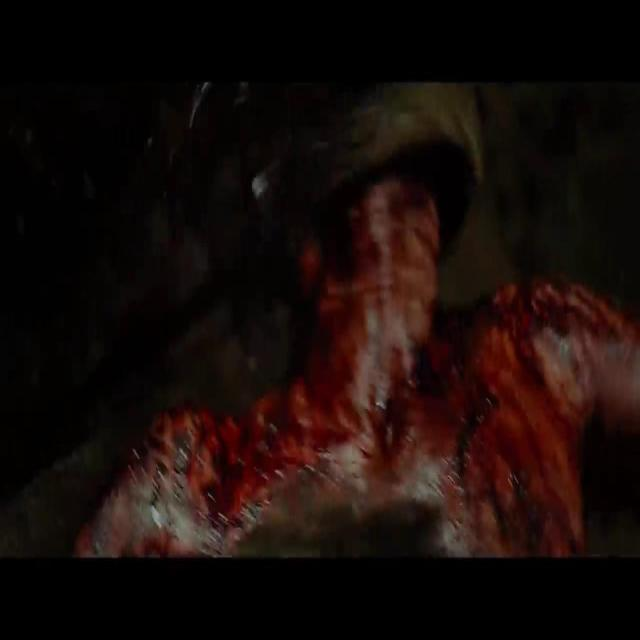flood: (150, 216, 608, 544)
